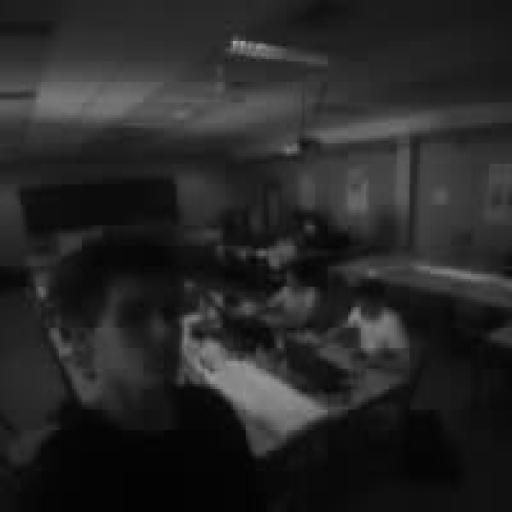human: (18, 236, 263, 511), (326, 280, 409, 371), (259, 264, 317, 330)
